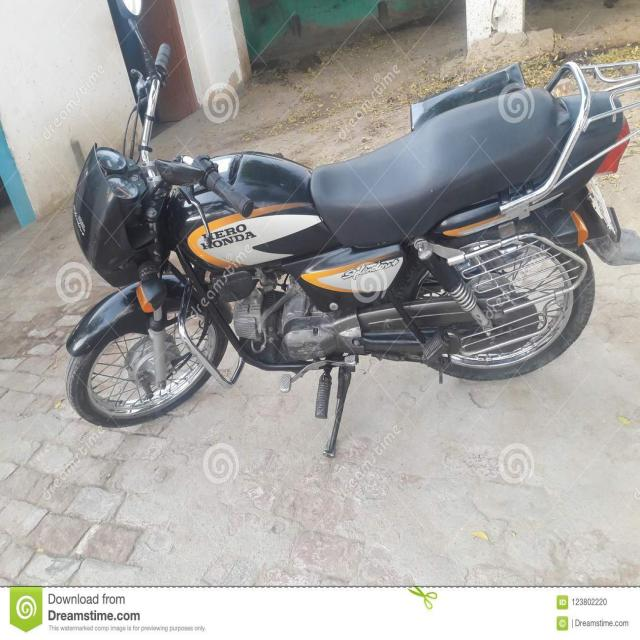Bike: (75, 15, 640, 429)
